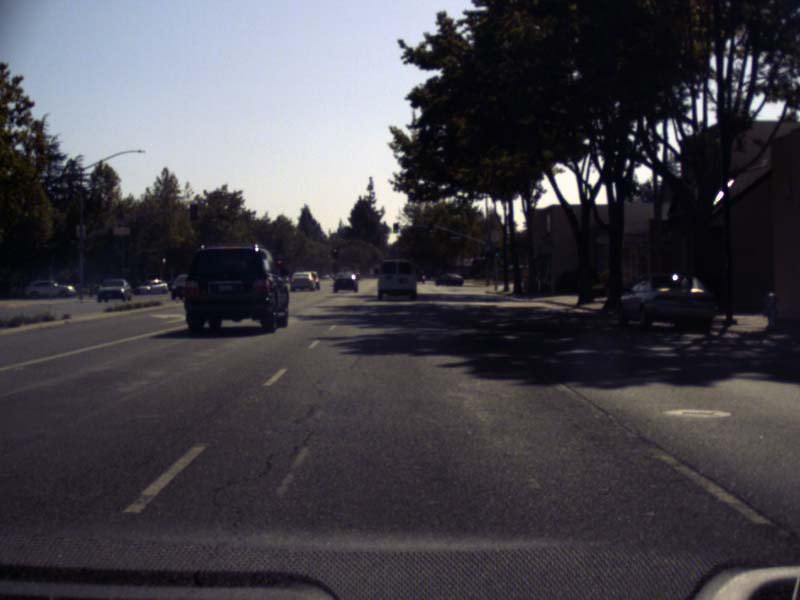Green: (427, 221, 434, 234), (392, 222, 397, 234), (494, 248, 500, 257)
Red: (332, 247, 338, 259)
Yellow: (276, 253, 284, 269)
